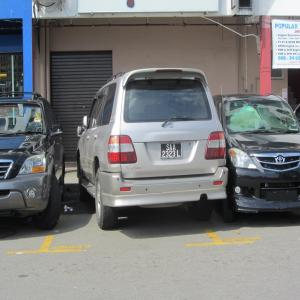Vehicle-registration-plate: (160, 143, 184, 160)
